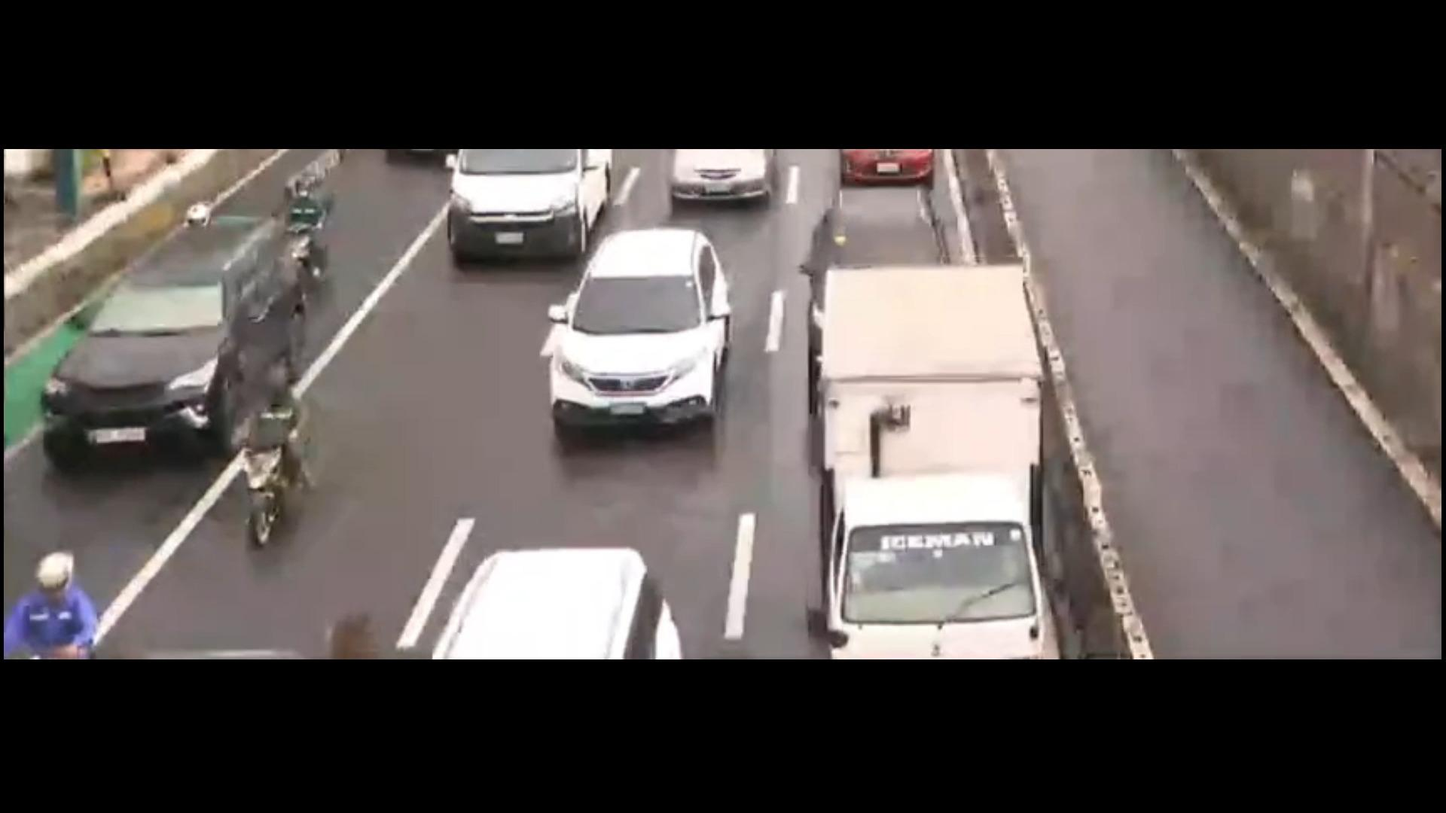Motorcycle: (222, 367, 320, 544), (10, 537, 121, 669), (284, 172, 336, 274)
SUV: (22, 213, 313, 470), (513, 224, 742, 440), (799, 179, 976, 349), (659, 149, 783, 215)
Truck: (804, 254, 1074, 657)
Van: (417, 541, 719, 669), (427, 143, 614, 264)
